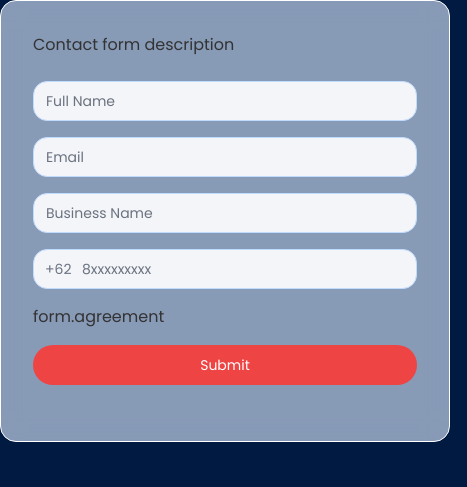
ContactForm › validates email format
The image size is (467, 487).
In the field with placeholder "Email": (225, 157) [33, 137, 417, 177], type "invalid-email"
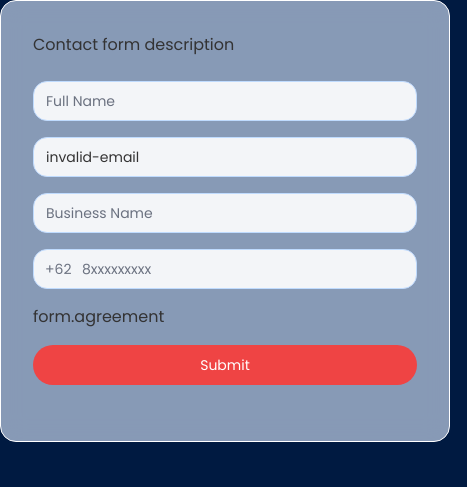
Leave the field with placeholder "Email", box [33, 137, 417, 177]
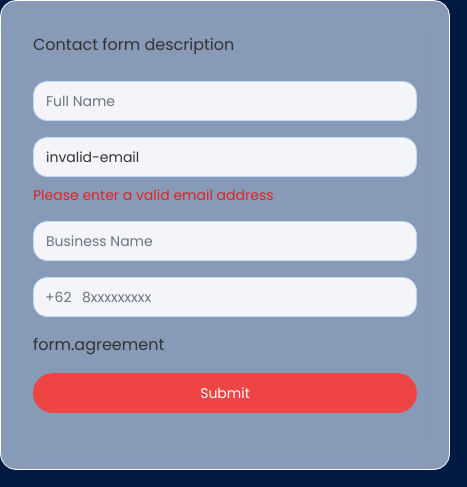
Check: the text "Please enter a valid email address" is shown, box [33, 185, 274, 205]
Replace the text in the field with placeholder "Email" with "valid@email.com": (225, 157) [33, 137, 417, 177]
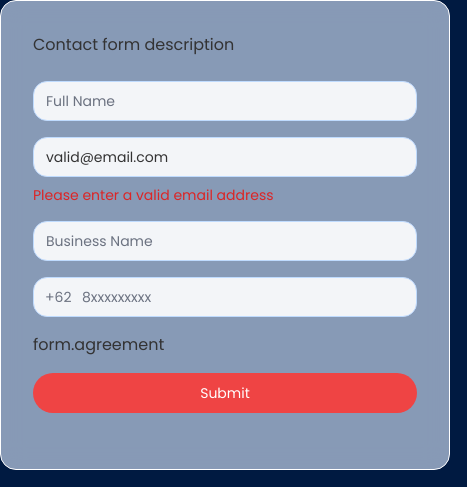
Leave the field with placeholder "Email", box [33, 137, 417, 177]
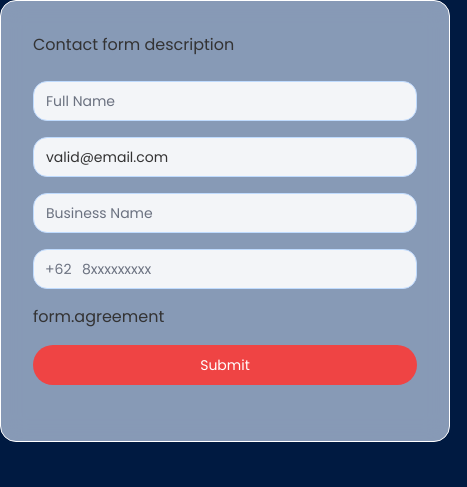
Check: the text "Please enter a valid email address" is gone
